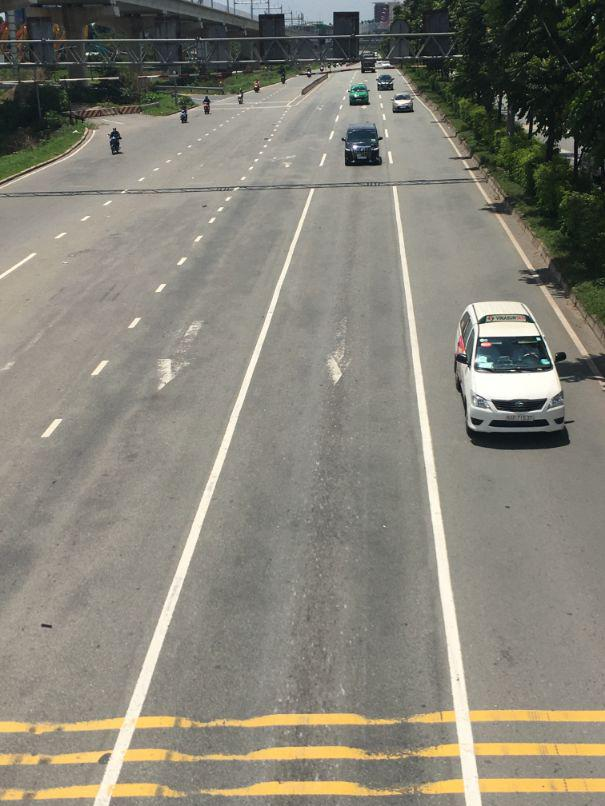car: (454, 300, 572, 440), (345, 127, 382, 170), (349, 82, 371, 105), (391, 94, 411, 114), (377, 74, 395, 91)
